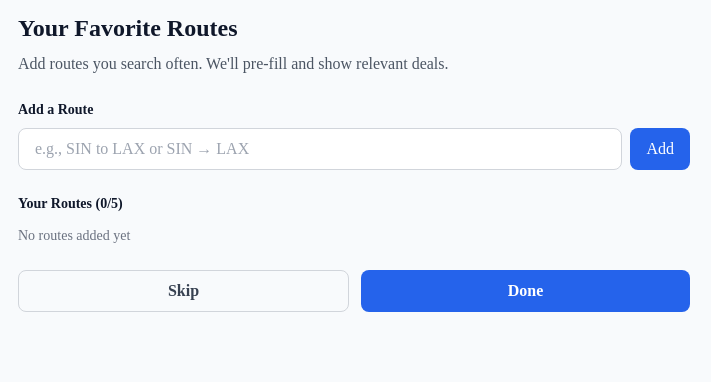
Test: FavoriteRoutes › displays route counter
Expected: the text "Your Routes (0/5)" is shown, [18,196,123,211]
In the field with placeholder "e.g., SIN to LAX or SIN → LAX": {"x": 320, "y": 149} [18,128,622,170], type "SIN to LAX"
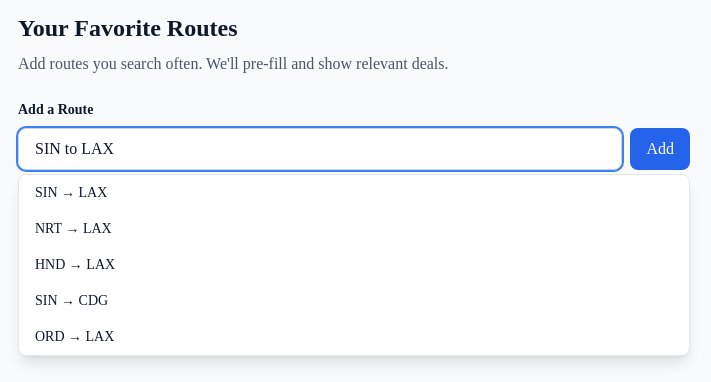
Click the button "Add": {"x": 660, "y": 149} [630,128,690,170]
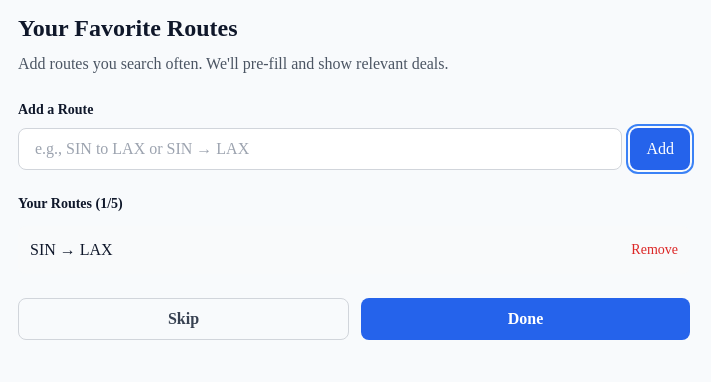
Result: the text "Your Routes (1/5)" is shown at [18,196,123,211]
